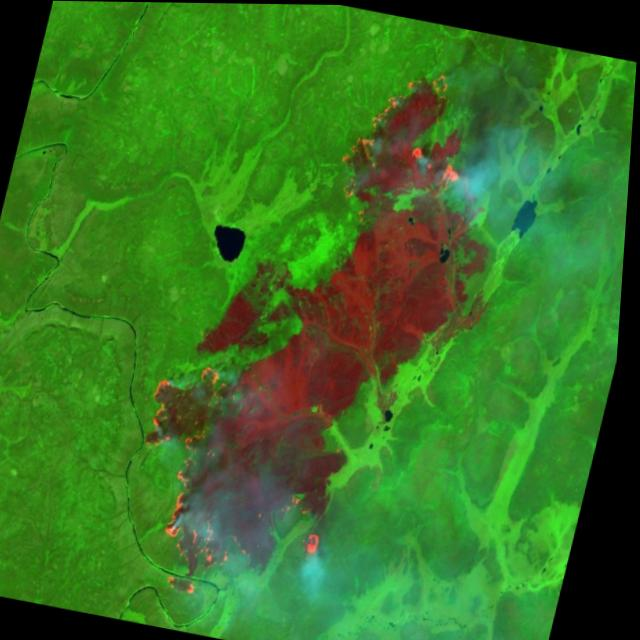fire: (102, 344, 387, 627), (315, 36, 491, 228)
